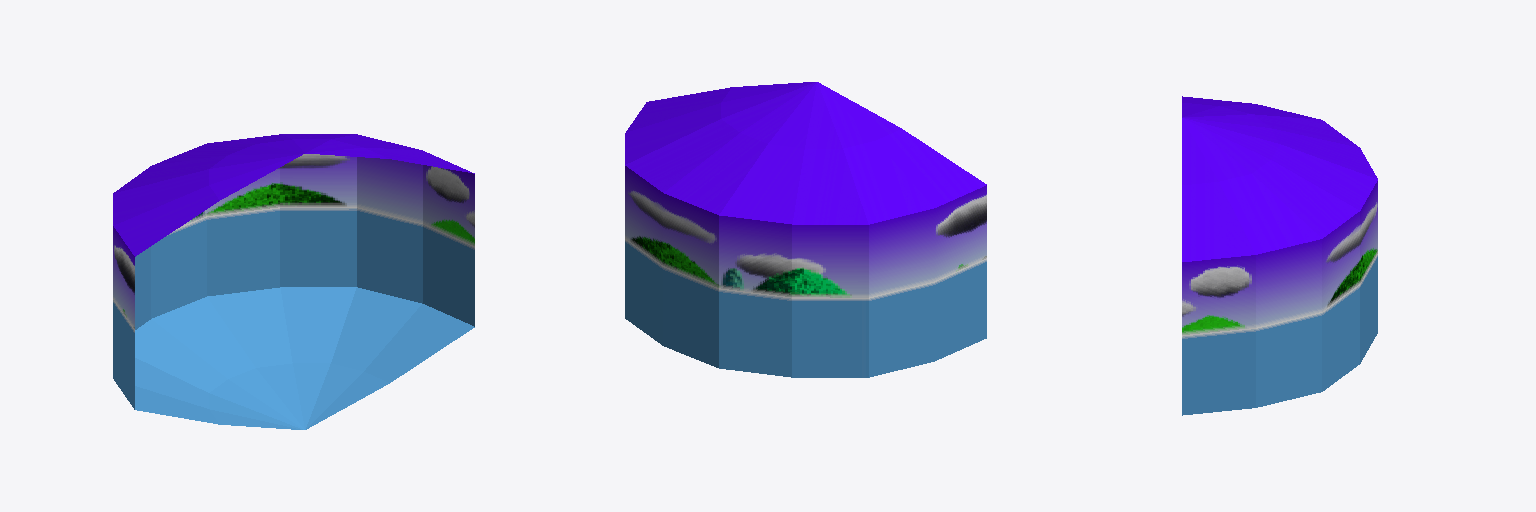
3 views of the same model, side by side, from view 1: azimuth 30°, elevation 25°; view 2: azimuth 150°, elevation 25°; view 3: azimuth 270°, elevation 25° (orthographic).
Parts seen in each view (by area): view 1: Cube.001; view 2: Cube.001; view 3: Cube.001.
Part boxes in pixels (x1,y1,x2,y2): Cube.001: (113,134,474,429); Cube.001: (625,82,986,377); Cube.001: (1182,96,1377,415).
Bounding box in the file's own units: 7.04 × 5.47 × 3.52.
1 materials, 1 textured.